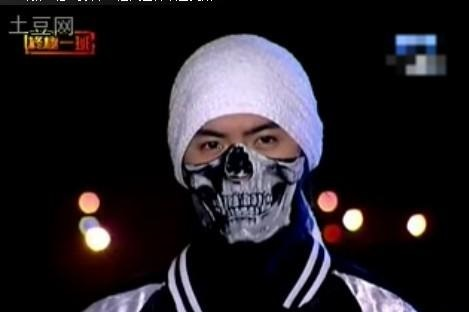face_mask: (181, 97, 299, 234)
